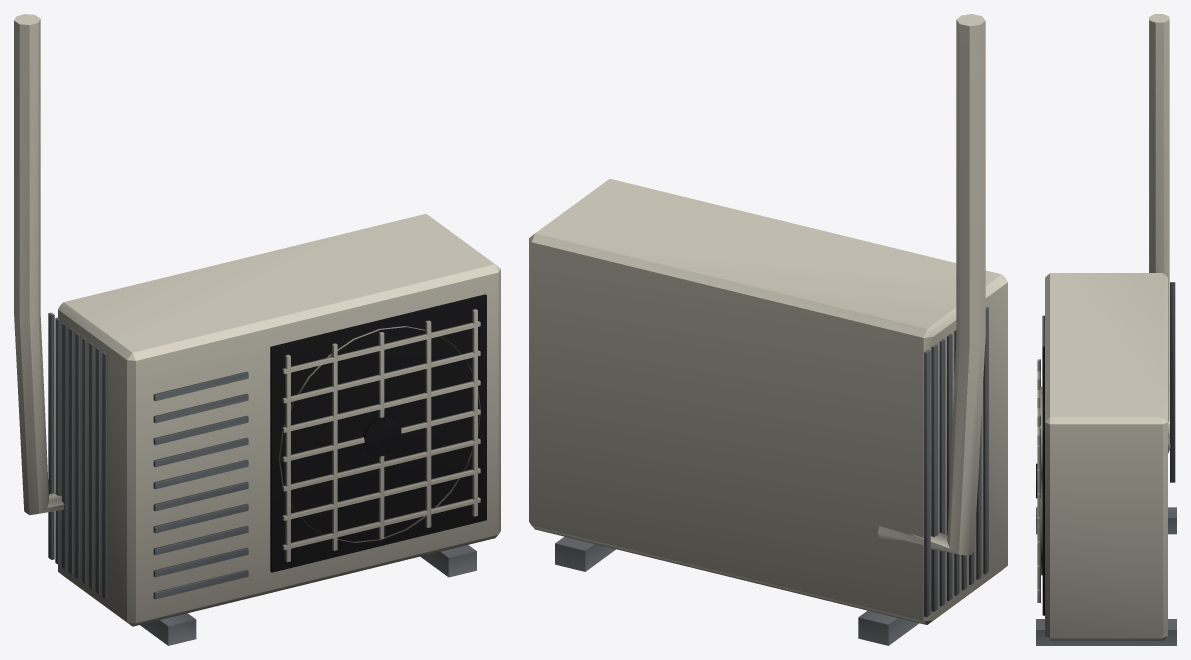
Rendered from prop.town.ac_unit.glb.
The picture shows the model from 3 angles, left to right: view 1: azimuth 30°, elevation 25°; view 2: azimuth 150°, elevation 25°; view 3: azimuth 270°, elevation 25°; orthographic projection. The views are drawn at different scales.
Parts seen in each view (by area): view 1: LOD0; view 2: LOD0; view 3: LOD0.
Boxes of the visible parts, bbox=[...] form: LOD0: bbox=[14, 14, 500, 645]; LOD0: bbox=[529, 14, 1007, 645]; LOD0: bbox=[1036, 14, 1176, 645].
Size of what is drawn, in the model's own units: 0.8935 by 1.2 by 0.32.
